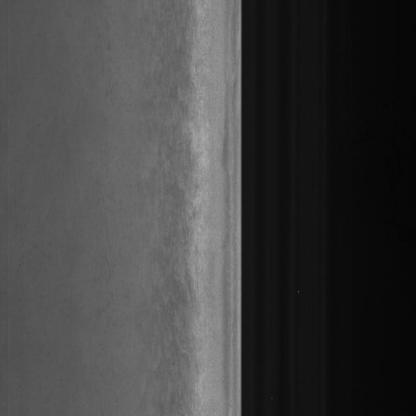silk_spot: (138, 119, 187, 382)
